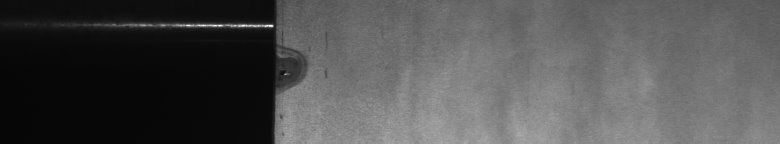hb: (288, 32, 331, 96)
